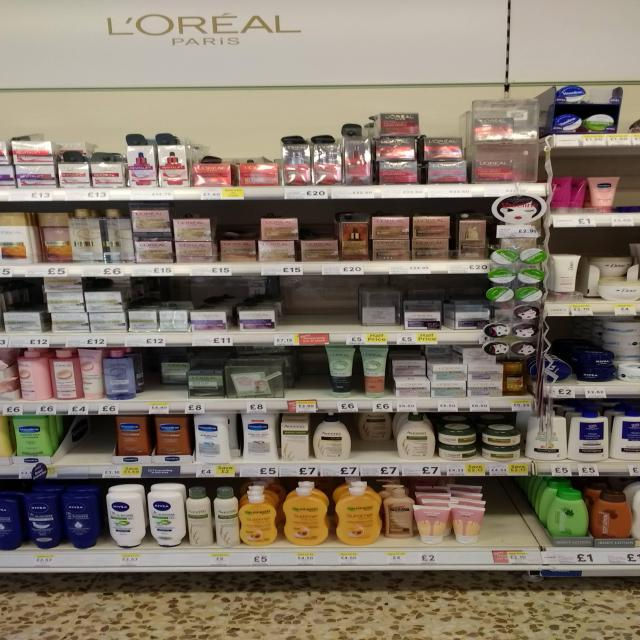empty: (281, 280, 360, 328), (485, 481, 530, 545), (291, 347, 326, 396), (76, 417, 114, 458), (623, 174, 640, 212)
